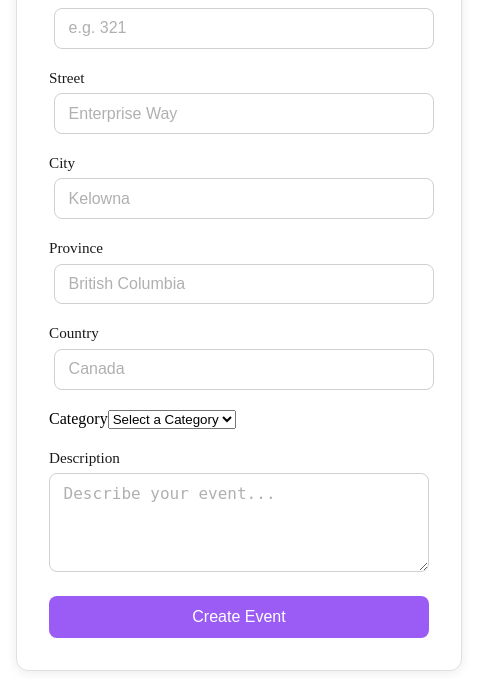
it: EventCreationForm Component › show error if user is not logged in
The width and height of the screenshot is (479, 679).
(page scrolled)
What coordinates should you click on to do the following:
click the button "Create Event"
I would click on:
 (239, 617)
Its box is [49,596,429,638].
(page scrolled)
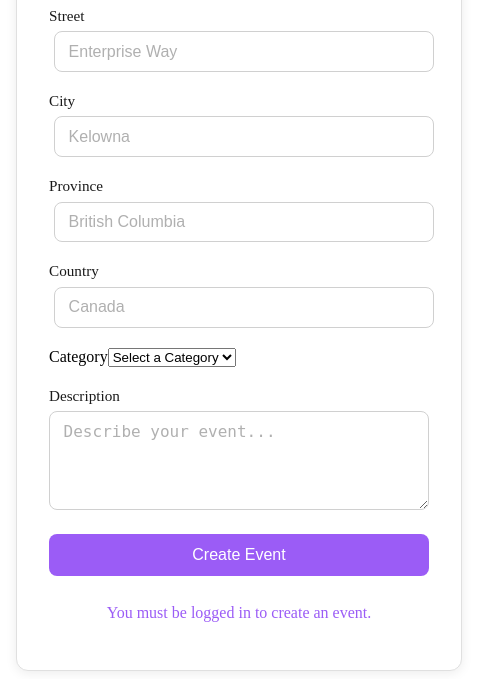
Expected: the text "You must be logged in to create an event." is shown, [107,604,371,621]
